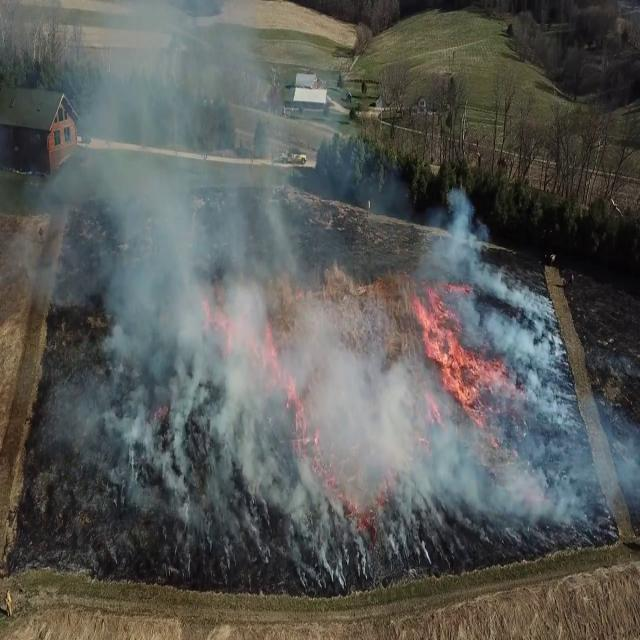Fire: (406, 272, 502, 422)
Smoke: (19, 0, 310, 570), (247, 302, 556, 534), (430, 172, 528, 358)
